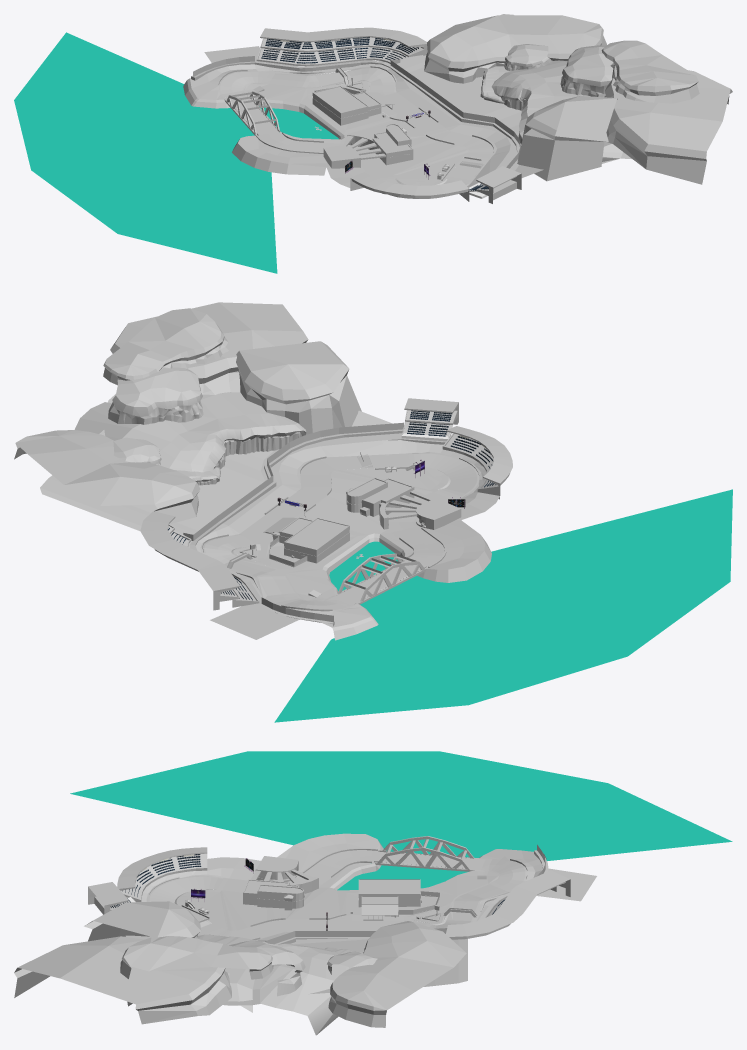
File: Mario_kart.fbx
3 renders of one model, top to bottom at view 1: azimuth 30°, elevation 25°; view 2: azimuth 150°, elevation 25°; view 3: azimuth 270°, elevation 25°, orthographic. The views are drawn at different scales.
Visible parts, largest first — view 1: speedway_water, speedway_base, Rock_02, speedway_road, Rock_06, Rock_01, Rock_04, speedway_gallery, speedway_extras_01, Rock_03, speedway_extras, speedway_fence (+4 smaller); view 2: speedway_water, speedway_base, Rock_04, speedway_road, Rock_06, Rock_01, speedway_extras_01, Rock_02, Rock_03, speedway_extras, speedway_fence, speedway_gallery (+3 smaller); view 3: speedway_water, speedway_base, Rock_02, speedway_road, Rock_06, Rock_04, speedway_extras_01, Rock_03, Rock_01, speedway_extras, speedway_gallery, speedway_bridge (+4 smaller).
Part boxes in pixels (box(x1,y1,x2,y2)): speedway_water: box(14, 32, 338, 273); speedway_base: box(183, 14, 611, 193); Rock_02: box(604, 70, 732, 184); speedway_road: box(218, 67, 493, 185); Rock_06: box(424, 15, 606, 83); Rock_01: box(517, 96, 617, 181); Rock_04: box(491, 45, 632, 163); speedway_gallery: box(256, 27, 427, 66); speedway_extras_01: box(312, 86, 413, 168); Rock_03: box(601, 40, 699, 103); speedway_extras: box(350, 161, 521, 203); speedway_fence: box(191, 56, 521, 169); speedway_water: box(274, 489, 732, 722); speedway_base: box(40, 394, 500, 640); Rock_04: box(74, 367, 306, 472); speedway_road: box(202, 452, 479, 610); Rock_06: box(14, 430, 200, 524); Rock_01: box(236, 341, 361, 434); speedway_extras_01: box(263, 477, 461, 563); Rock_02: box(110, 302, 308, 394); Rock_03: box(103, 308, 230, 385); speedway_extras: box(348, 398, 512, 499); speedway_fence: box(183, 422, 403, 626); speedway_gallery: box(140, 511, 259, 610); speedway_water: box(70, 751, 732, 890); speedway_base: box(125, 833, 546, 1005); Rock_02: box(14, 936, 231, 1024); speedway_road: box(147, 850, 527, 939); Rock_06: box(328, 921, 466, 1027); Rock_04: box(127, 934, 349, 1035); speedway_extras_01: box(243, 856, 420, 920); Rock_03: box(120, 936, 273, 979); Rock_01: box(84, 901, 201, 941); speedway_extras: box(88, 847, 207, 914); speedway_gallery: box(446, 870, 570, 939); speedway_bridge: box(375, 836, 479, 871).
Bounding box in the file's own units: 21125 × 2457 × 21098.
